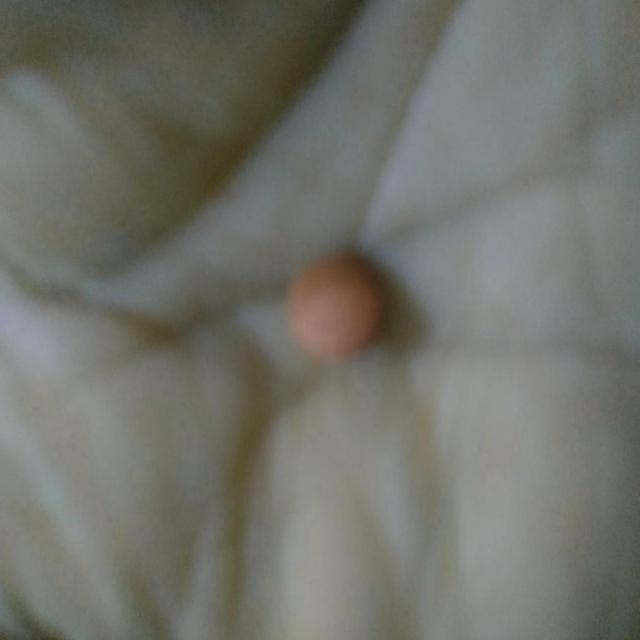pill: (280, 250, 390, 362)
